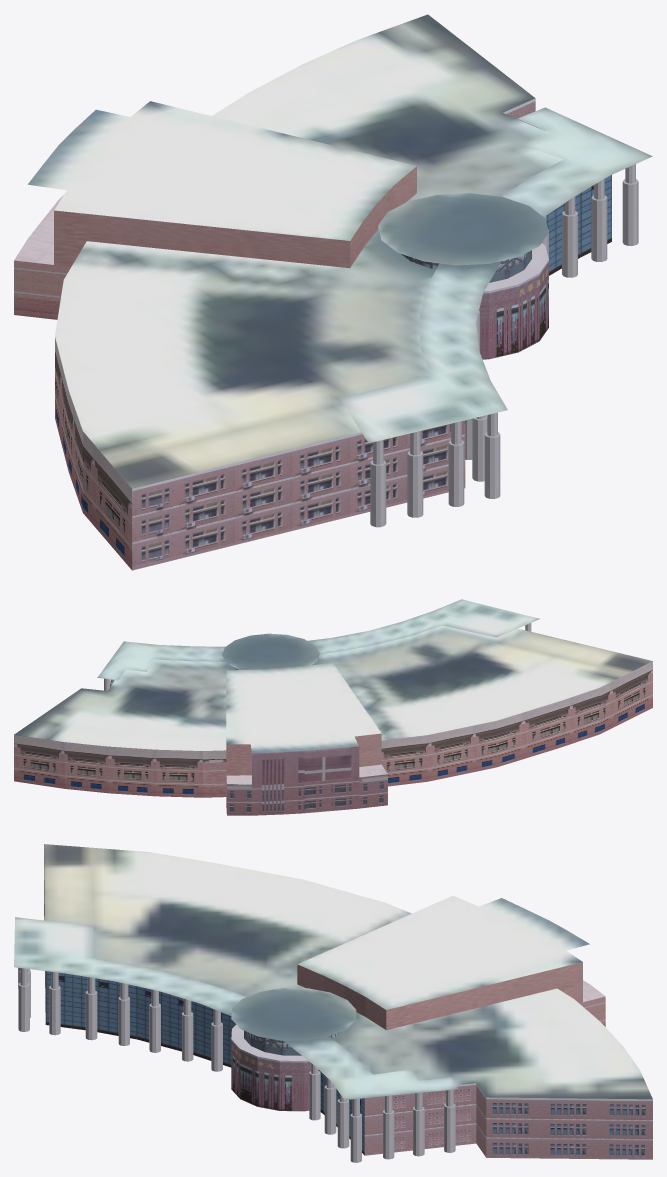
3 renders of one model, top to bottom at view 1: azimuth 30°, elevation 25°; view 2: azimuth 150°, elevation 25°; view 3: azimuth 270°, elevation 25°, orthographic. The views are drawn at different scales.
Visible parts, largest first — view 1: Mesh18#2, Mesh38#2, Mesh39#2, Mesh36#2, Mesh32#2, Mesh07#7, Mesh05#9, Mesh12#2, Mesh14#2, Mesh01#14, Mesh27#2, Mesh03#12 (+1 smaller); view 2: Mesh18#2, Mesh38#2, Mesh39#2; view 3: Mesh18#2, Mesh38#2, Mesh39#2, Mesh36#2, Mesh37#2, Mesh14#2, Mesh27#2, Mesh34#2, Mesh21#2, Mesh07#7, Mesh10#3, Mesh12#2 (+7 smaller).
Part boxes in pixels (x1=…): Mesh18#2: x1=14, y1=14, x2=611, y2=570; Mesh38#2: x1=340, y1=107, x2=652, y2=443; Mesh39#2: x1=378, y1=193, x2=548, y2=265; Mesh36#2: x1=479, y1=243, x2=548, y2=359; Mesh32#2: x1=370, y1=460, x2=386, y2=527; Mesh07#7: x1=484, y1=432, x2=500, y2=498; Mesh05#9: x1=407, y1=451, x2=423, y2=517; Mesh12#2: x1=622, y1=179, x2=638, y2=245; Mesh14#2: x1=591, y1=195, x2=607, y2=261; Mesh01#14: x1=448, y1=440, x2=464, y2=506; Mesh27#2: x1=562, y1=211, x2=577, y2=277; Mesh03#12: x1=472, y1=415, x2=487, y2=481; Mesh18#2: x1=14, y1=625, x2=652, y2=815; Mesh38#2: x1=97, y1=599, x2=539, y2=680; Mesh39#2: x1=222, y1=633, x2=319, y2=669; Mesh18#2: x1=44, y1=844, x2=652, y2=1159; Mesh38#2: x1=14, y1=917, x2=457, y2=1099; Mesh39#2: x1=231, y1=988, x2=356, y2=1040; Mesh36#2: x1=231, y1=1024, x2=310, y2=1111; Mesh37#2: x1=244, y1=1030, x2=339, y2=1055; Mesh14#2: x1=337, y1=1099, x2=349, y2=1148; Mesh27#2: x1=324, y1=1085, x2=336, y2=1134; Mesh34#2: x1=85, y1=991, x2=97, y2=1040; Mesh21#2: x1=182, y1=1012, x2=193, y2=1061; Mesh07#7: x1=18, y1=982, x2=29, y2=1031; Mesh10#3: x1=383, y1=1110, x2=394, y2=1159; Mesh12#2: x1=350, y1=1113, x2=361, y2=1162.
Size of the model in its own units: 0.1112 by 0.016 by 0.115.
Materials: 3 (3 with a texture image).
